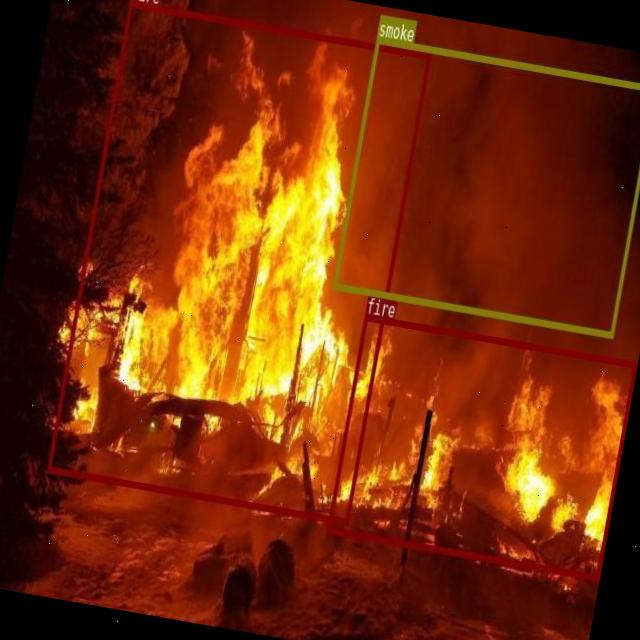fire: (45, 0, 430, 524), (326, 312, 636, 578)
smoke: (332, 36, 640, 336)
